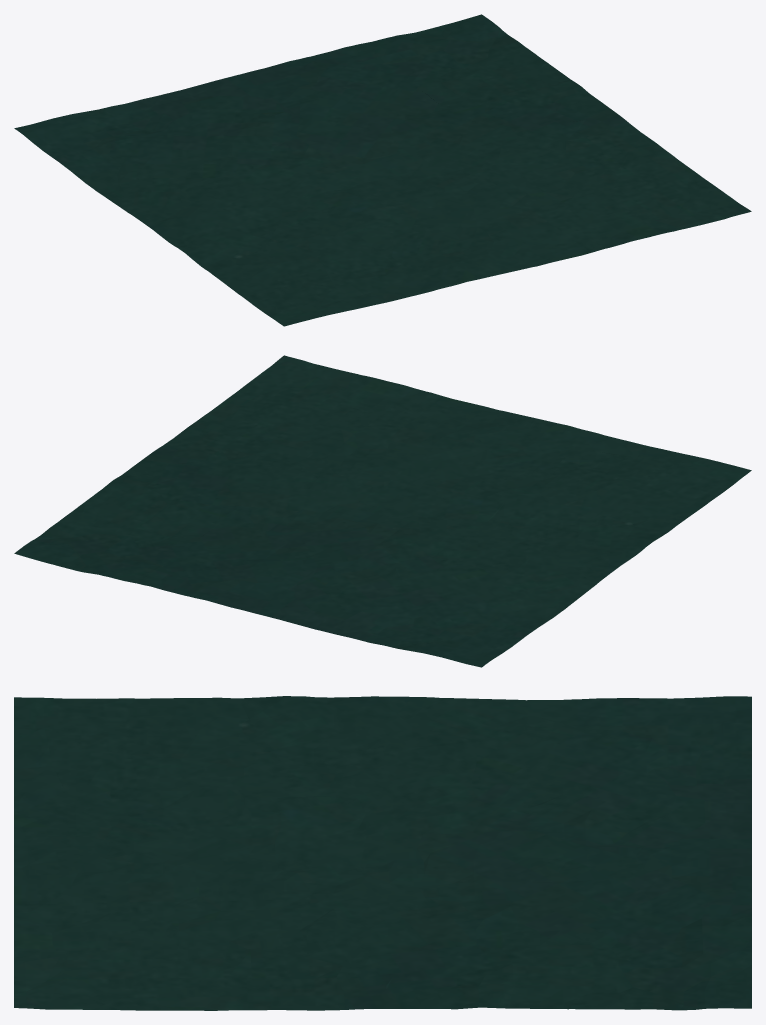
3 renders of one model, top to bottom at view 1: azimuth 30°, elevation 25°; view 2: azimuth 150°, elevation 25°; view 3: azimuth 270°, elevation 25°, orthographic. The views are drawn at different scales.
Size of the model in its own units: 104 by 0.9603 by 104.
2 materials, 2 textured.
